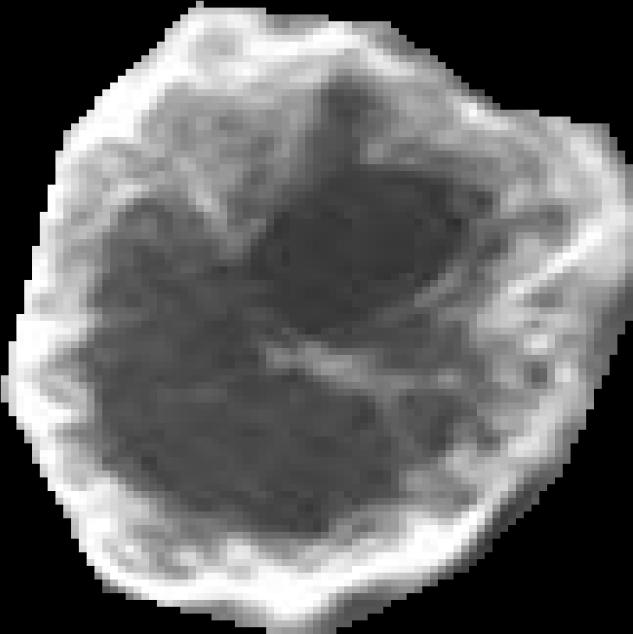tumor_moderate_chance: (1, 1, 633, 634)
